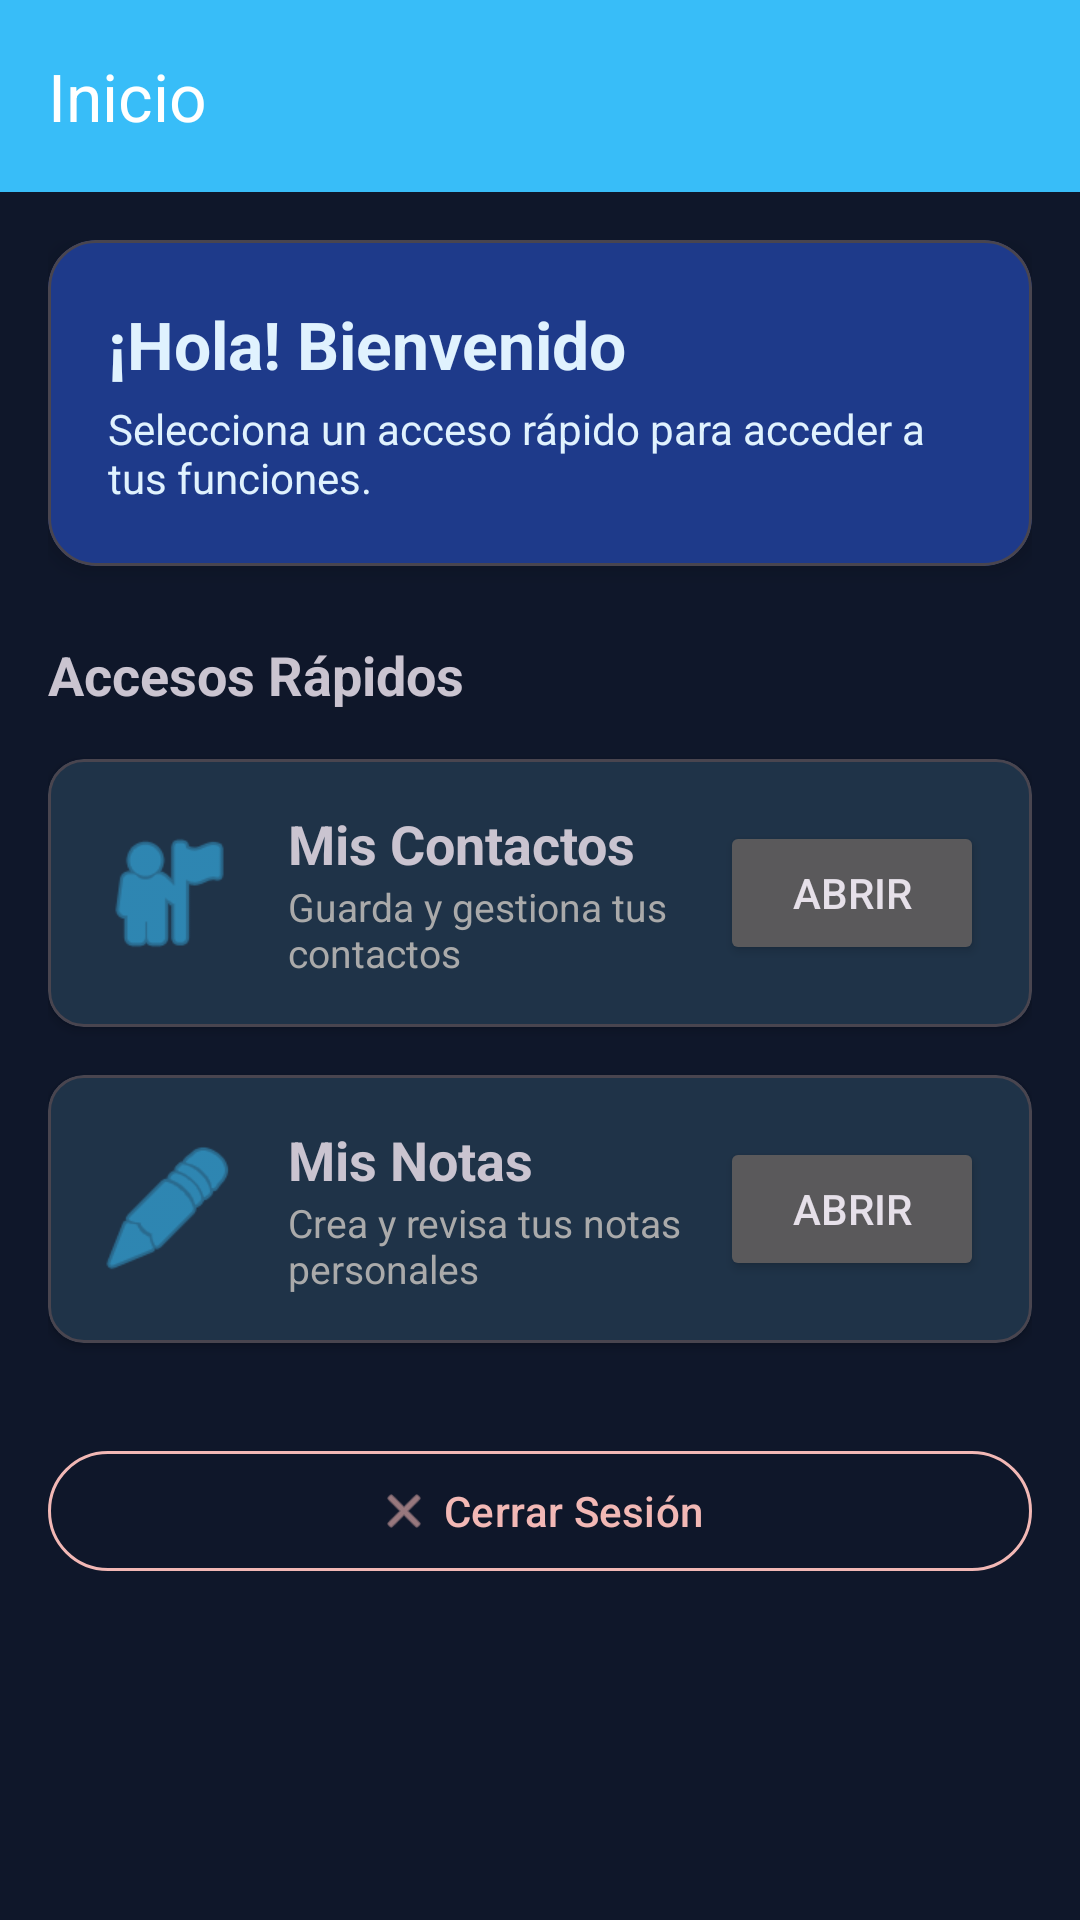

Icons on this 1080px x 1920px Android screen, each with the point to tap as (x,y):
Icono notas: (167,1208)
